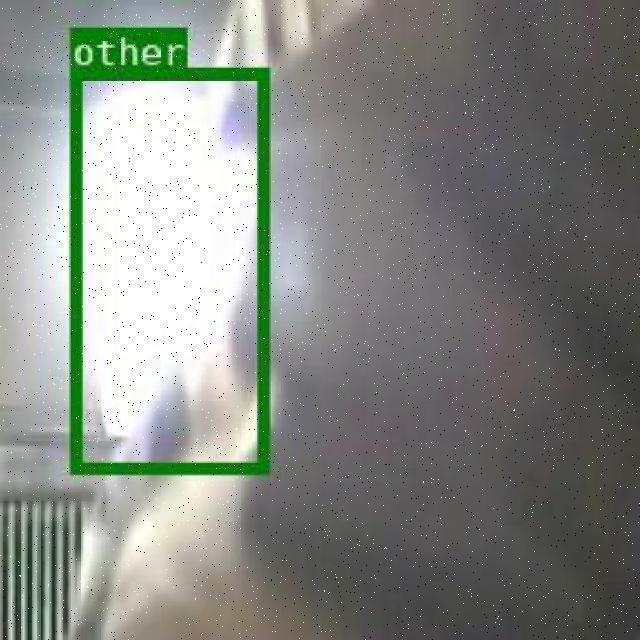Smoke: (68, 66, 266, 472)
